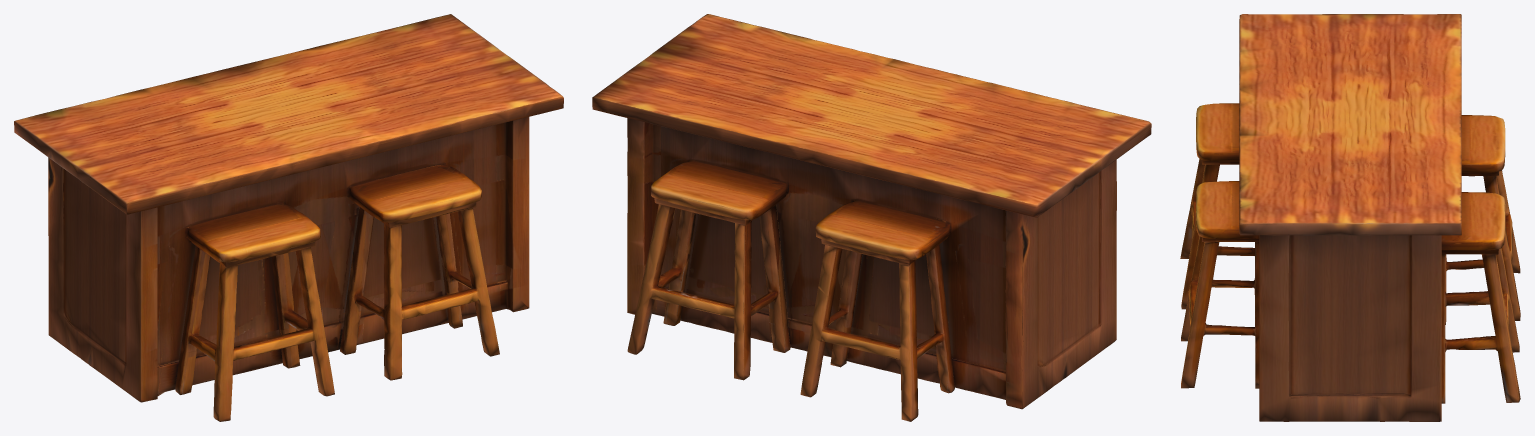
File: Meshy_AI_Wooden_Bar_and_Stools_0108010824_texture.fbx
3 views of the same model, side by side, from view 1: azimuth 30°, elevation 25°; view 2: azimuth 150°, elevation 25°; view 3: azimuth 270°, elevation 25° (orthographic). The views are drawn at different scales.
Parts seen in each view (by area): view 1: Mesh_0; view 2: Mesh_0; view 3: Mesh_0.
Boxes of the visible parts, left/top/right/bottom form: Mesh_0: left=14, top=14, right=563, bottom=421; Mesh_0: left=592, top=14, right=1151, bottom=421; Mesh_0: left=1180, top=14, right=1520, bottom=421.
Size of the model in its own units: 191 by 89.19 by 131.
1 material, 1 textured.
